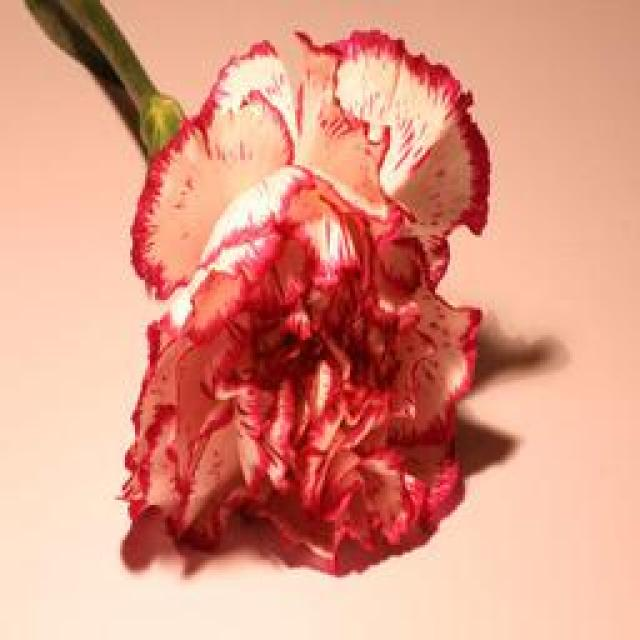carnation: (110, 21, 522, 598)
